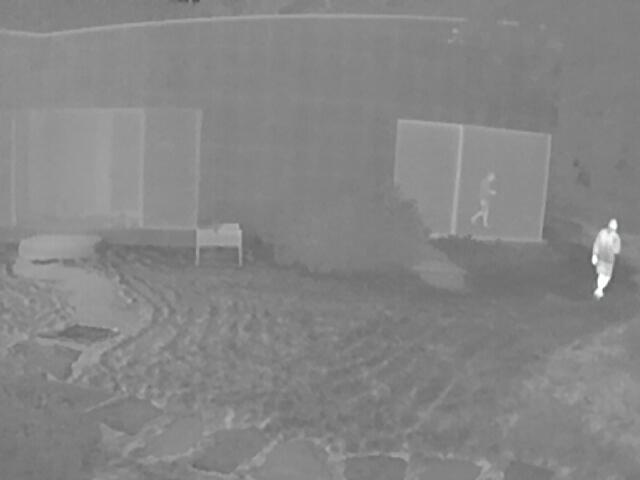person: (590, 218, 624, 299), (468, 172, 502, 230)
